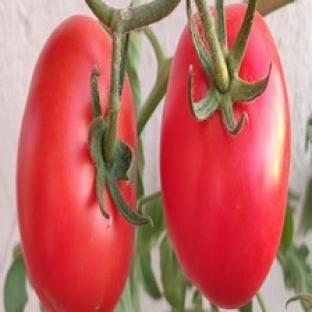Tomato: (161, 14, 291, 307), (17, 16, 133, 311)
